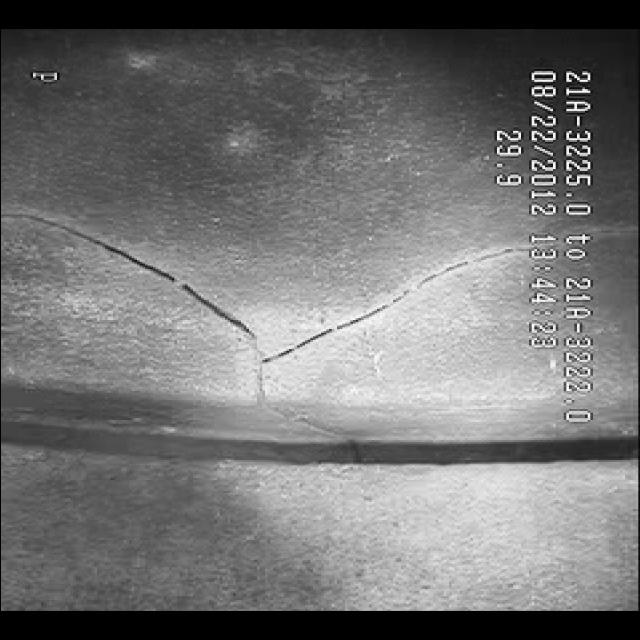Crack: (97, 230, 513, 396)
